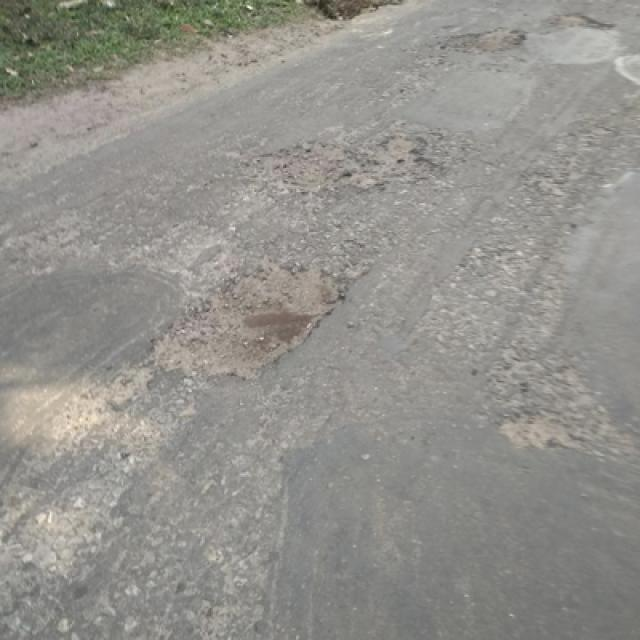objects: (155, 262, 359, 362), (252, 132, 458, 188)
